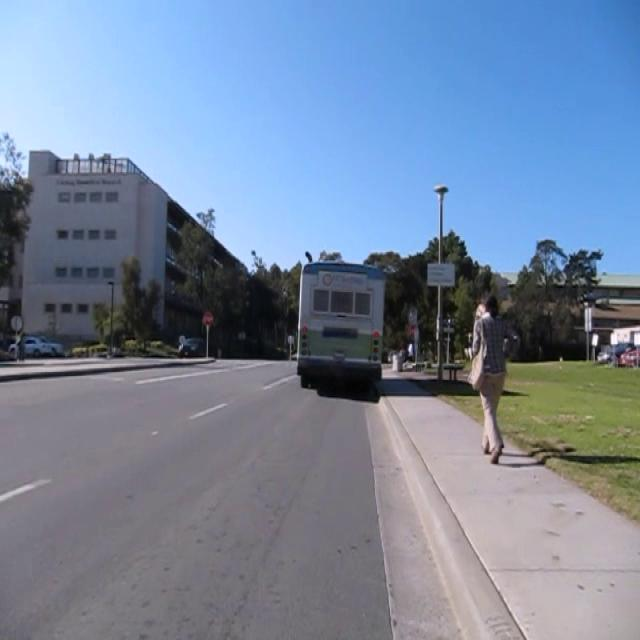stop: (201, 309, 214, 327), (406, 321, 418, 339)
